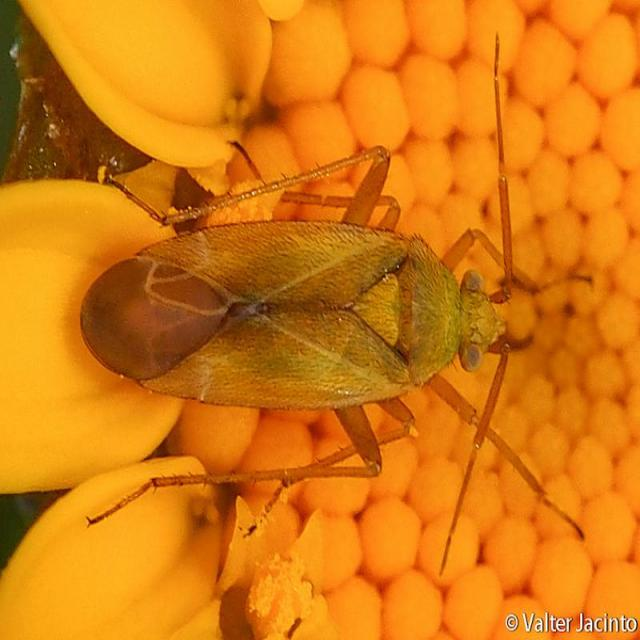Miridae-Adult-: (62, 28, 604, 595)
